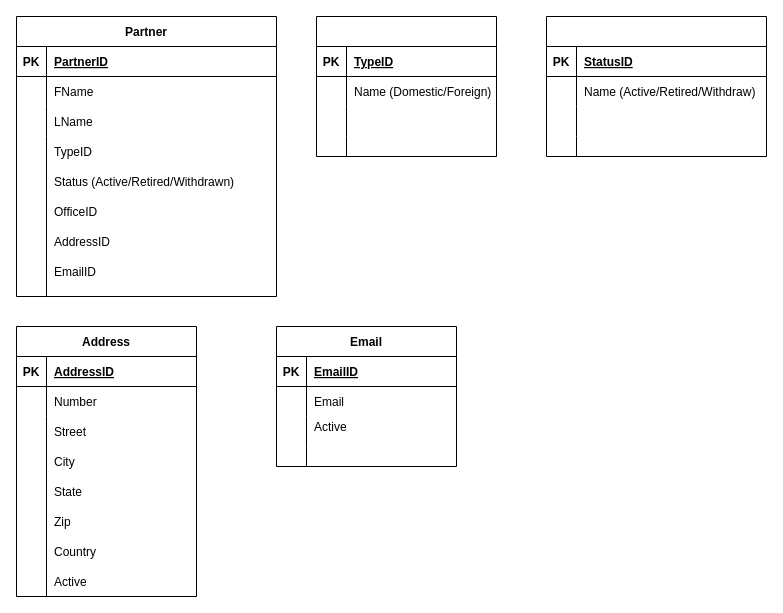
The diagram is 783 pixels wide and 613 high, and some of its shapes have lost their labels. Here are the shapes that lost their labels. From the top down, the box of each, then its label:
(316, 16, 496, 156): PartnerType
(546, 16, 766, 156): PartnerStatus
